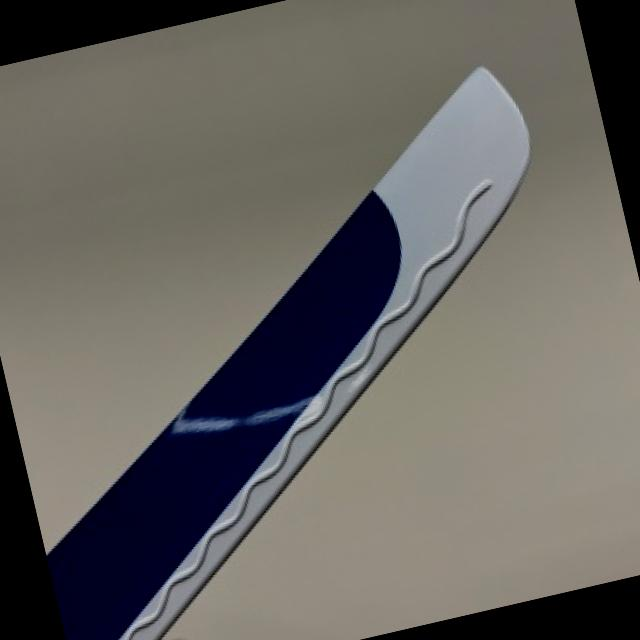healthy: (47, 66, 528, 640)
